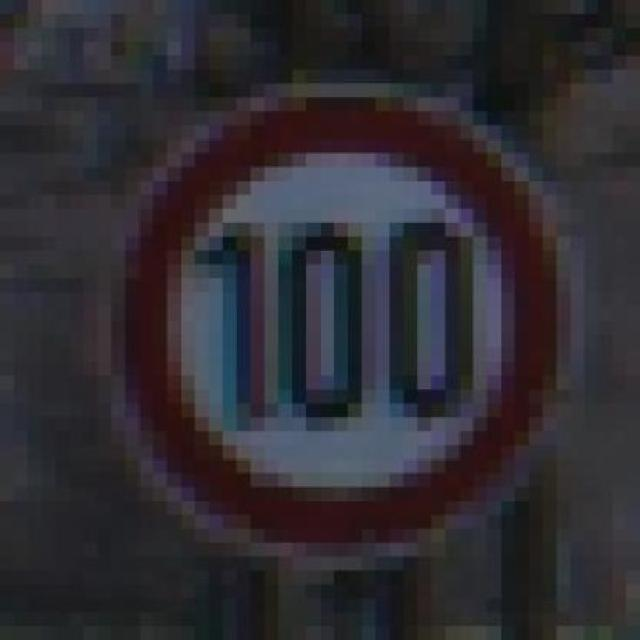forb_speed_over_100: (128, 96, 567, 556)
